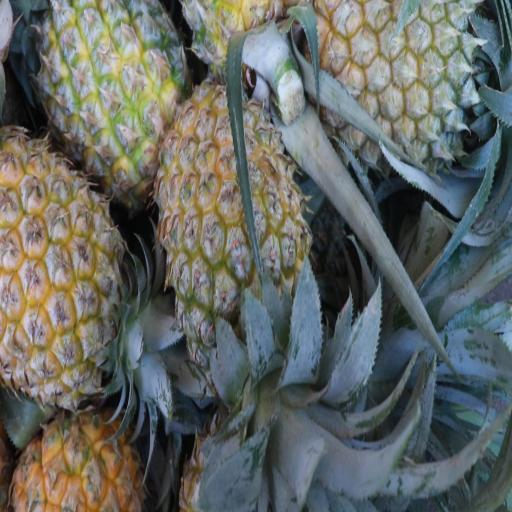------------------------------: (162, 94, 304, 344)
Pineapple - v8 v1: (0, 136, 145, 396), (40, 0, 182, 180), (17, 404, 148, 512)
